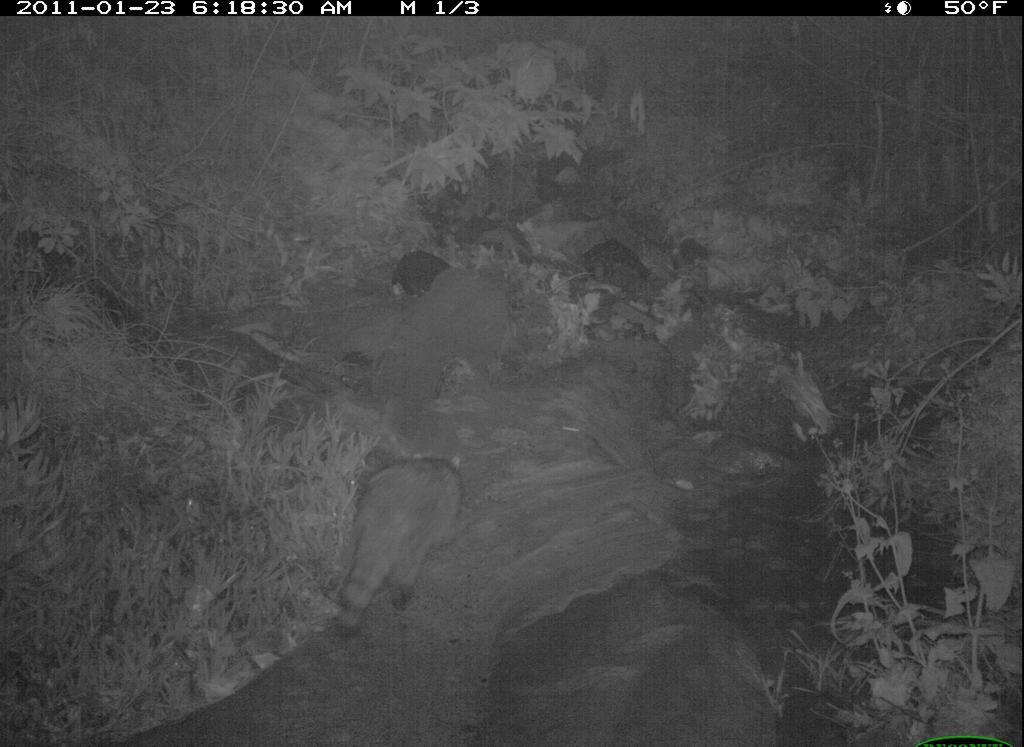raccoon: (329, 443, 470, 643)
